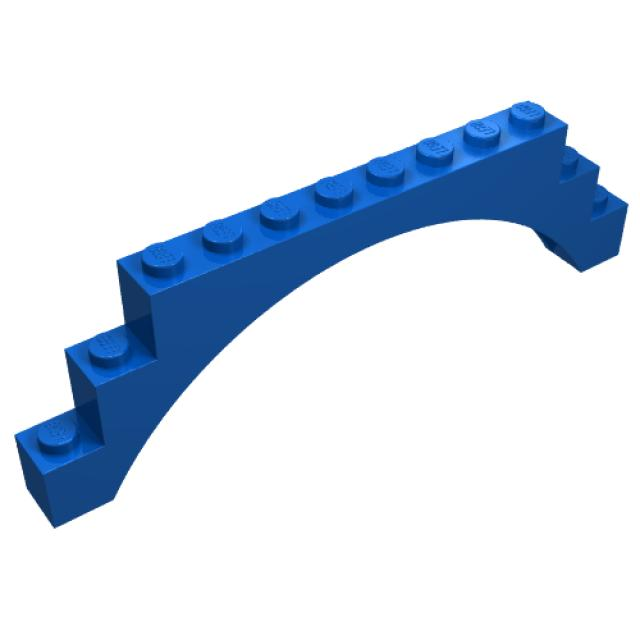Blue_Large: (13, 101, 628, 530)
